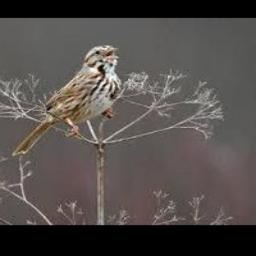Sparrow: (12, 45, 123, 156)
